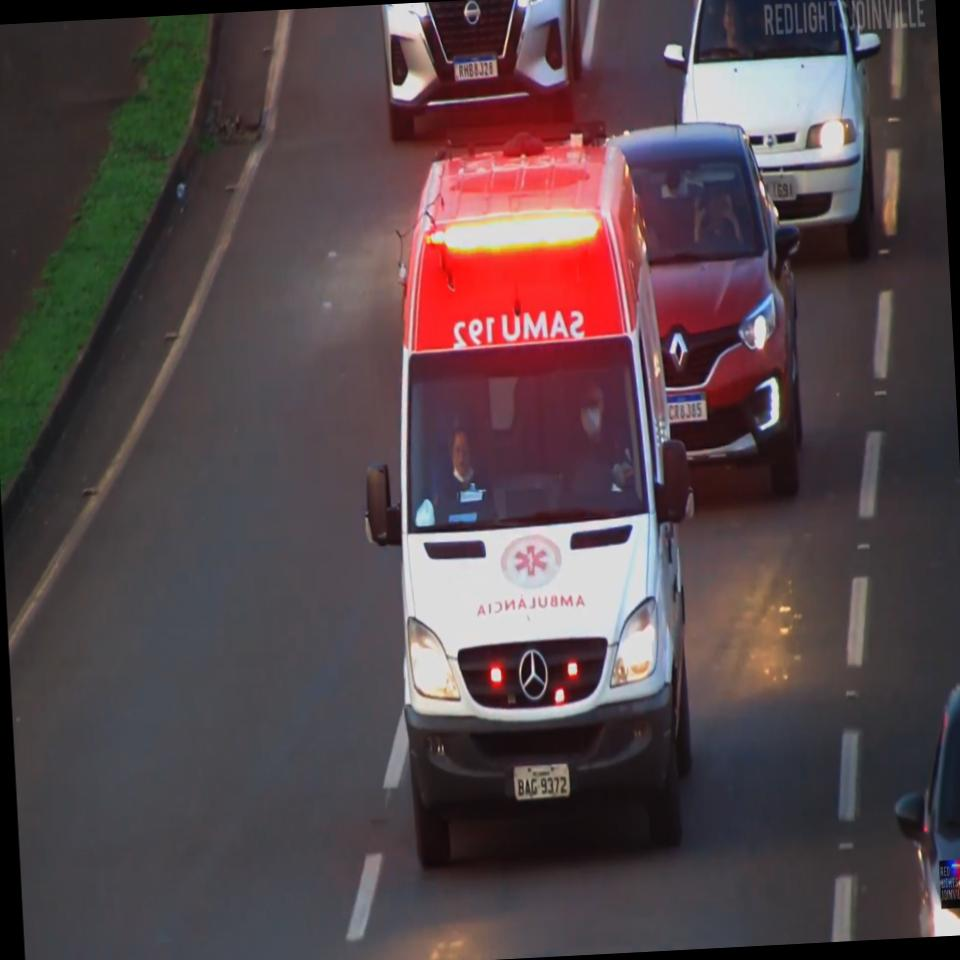bombeiro: (350, 122, 714, 864)
